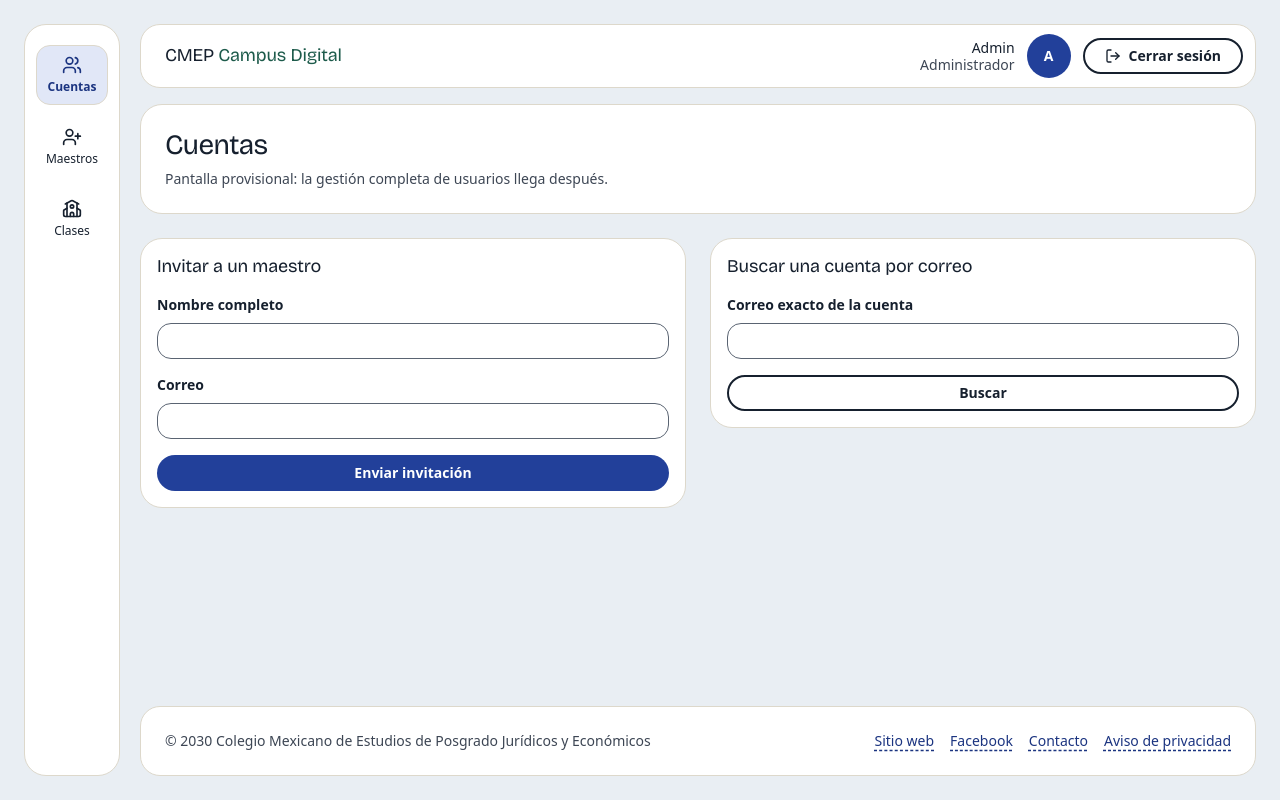
ataque CHORE-03 03c r1 · «Inténtalo de nuevo» en admin por cada camino (rutas y Providers) › invitar maestro: repetir el control quita el error y sale bien
Check: the button "Enviar invitación" is shown, box [157, 456, 669, 492]
Type "Carla Ruiz" into the field labelled "Nombre completo" at [413, 341], box [157, 323, 669, 359]
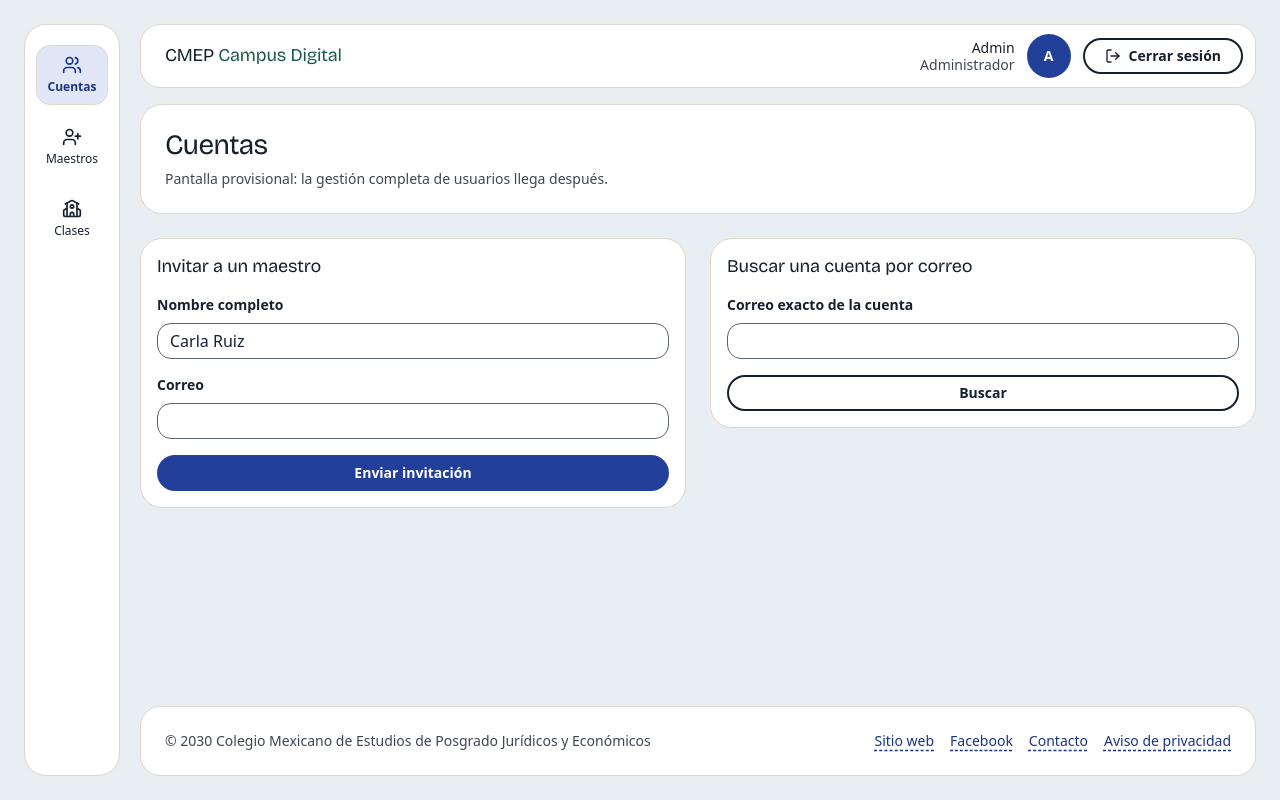
Type "carla@colegio.mx" into the field labelled "Correo" at [413, 422], box [157, 404, 669, 440]
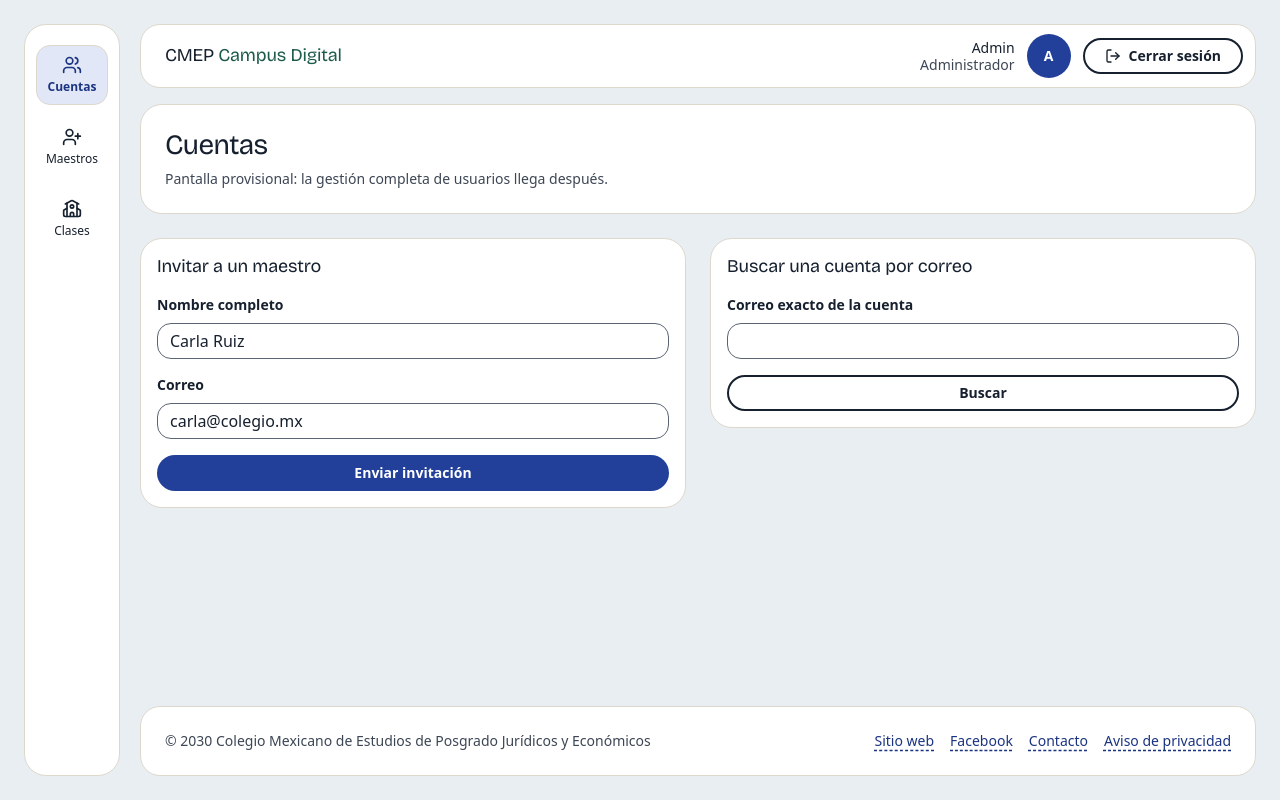
Click the button "Enviar invitación" at [413, 474], box [157, 456, 669, 492]
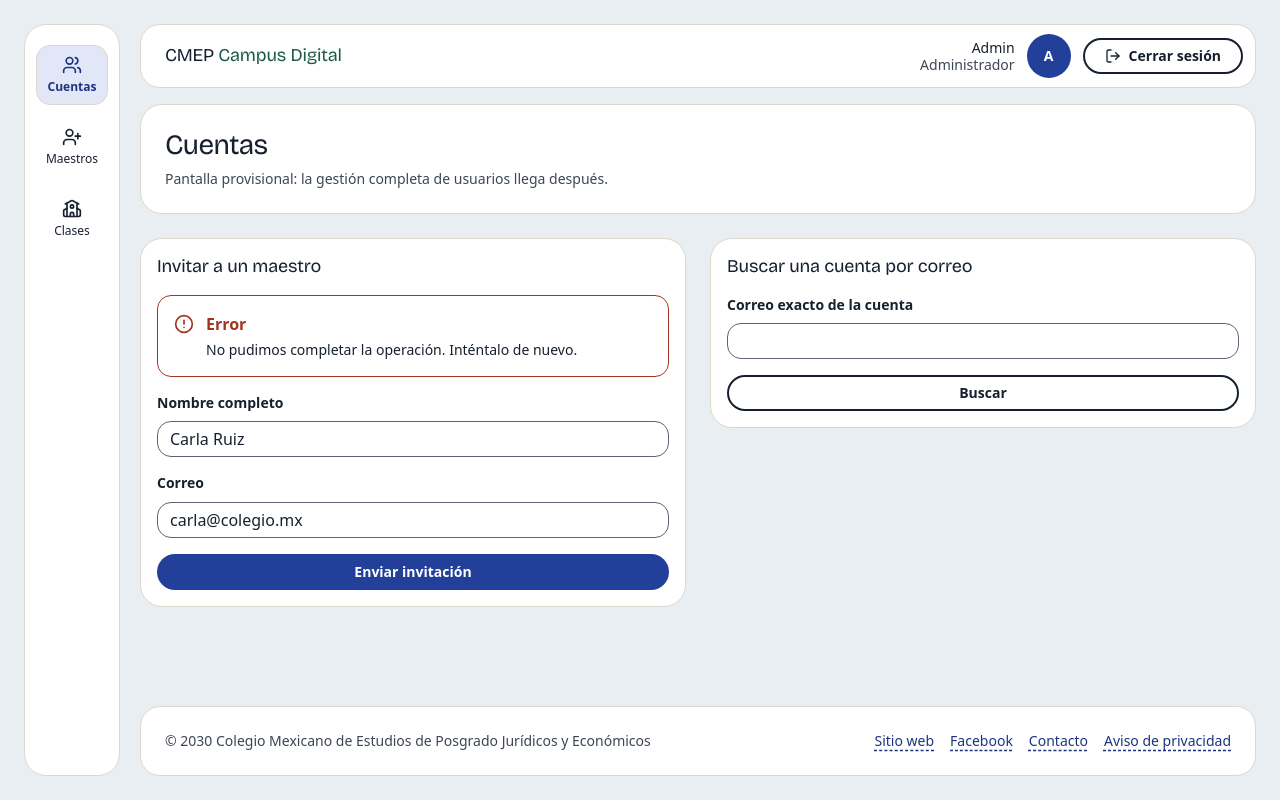
Check: the message shows "No pudimos completar la operación. Inténtalo de nuevo.", box [206, 340, 577, 359]
Click the button "Enviar invitación" at [413, 572], box [157, 554, 669, 590]
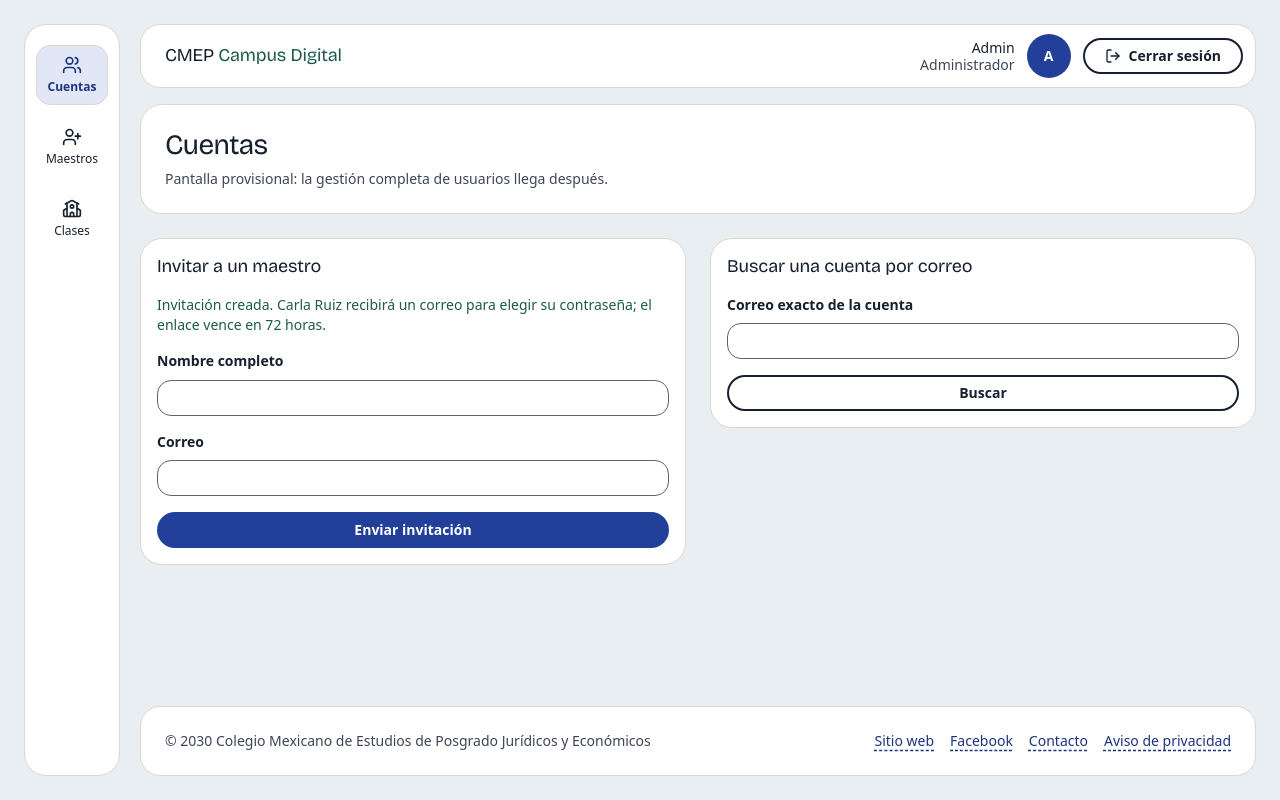
Check: the text "Invitación creada." is shown, box [157, 295, 652, 334]
Check: the text "No pudimos completar la operación. Inténtalo de nuevo." is gone
